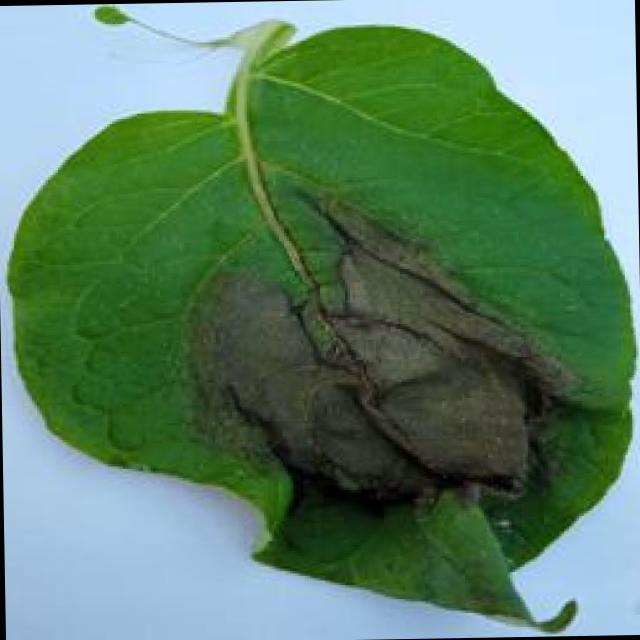Potato_Late_Blight: (9, 6, 637, 640)
